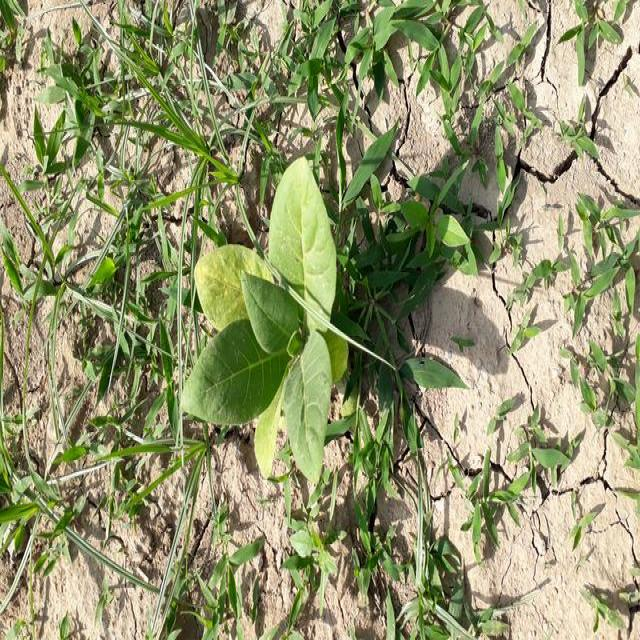crop: (191, 170, 351, 474)
